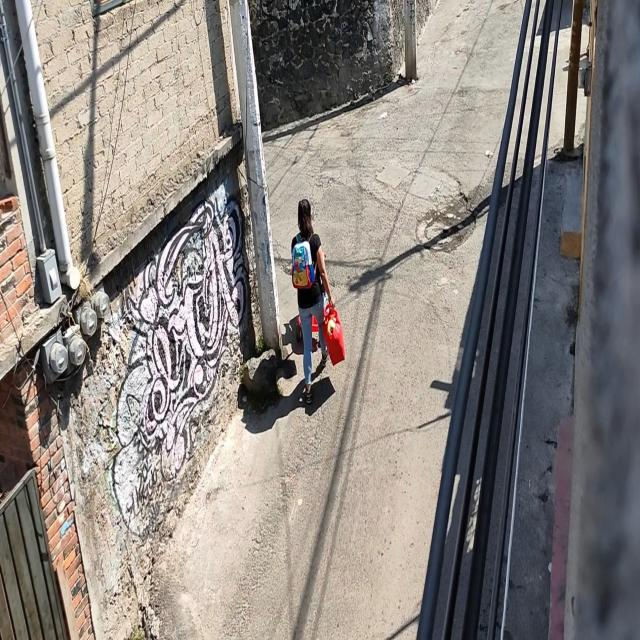adult: (290, 188, 336, 410)
